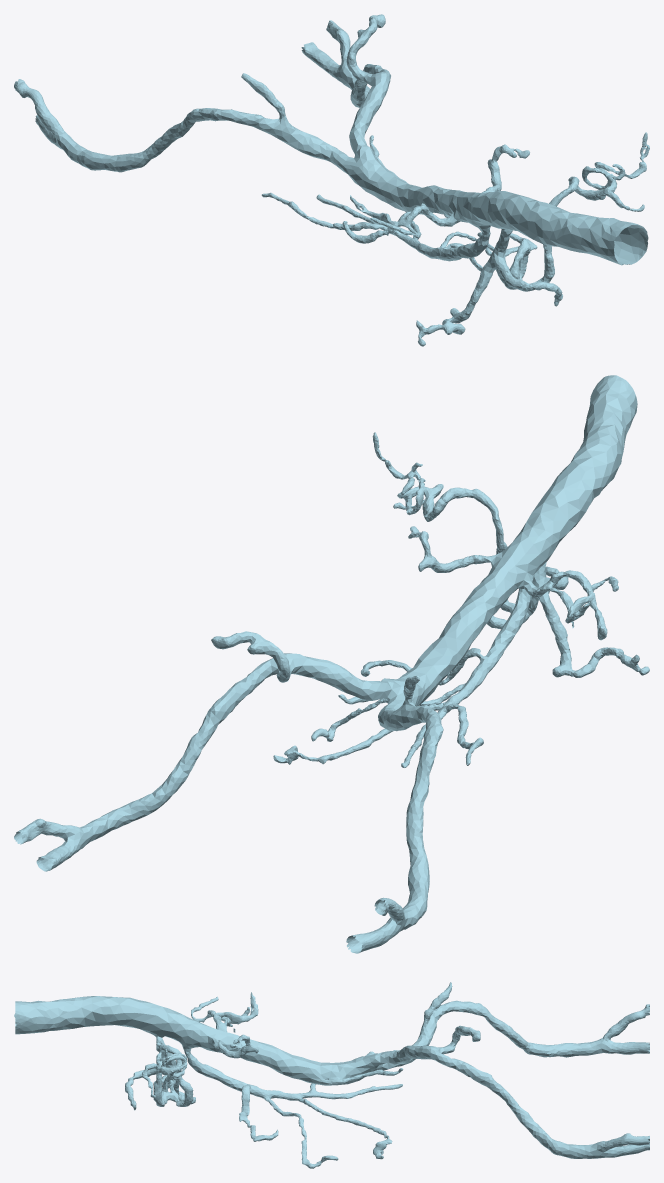
File: artery.obj
3 views of the same model, one above another, from view 1: azimuth 30°, elevation 25°; view 2: azimuth 150°, elevation 25°; view 3: azimuth 270°, elevation 25° (orthographic). The views are drawn at different scales.
Visible parts, largest first — view 1: grp1; view 2: grp1; view 3: grp1.
Part boxes in pixels (x1,y1,x2,y2): grp1: (14,14,649,346); grp1: (14,375,649,953); grp1: (14,982,649,1168).
Bounding box in the file's own units: 204 × 112 × 447.
